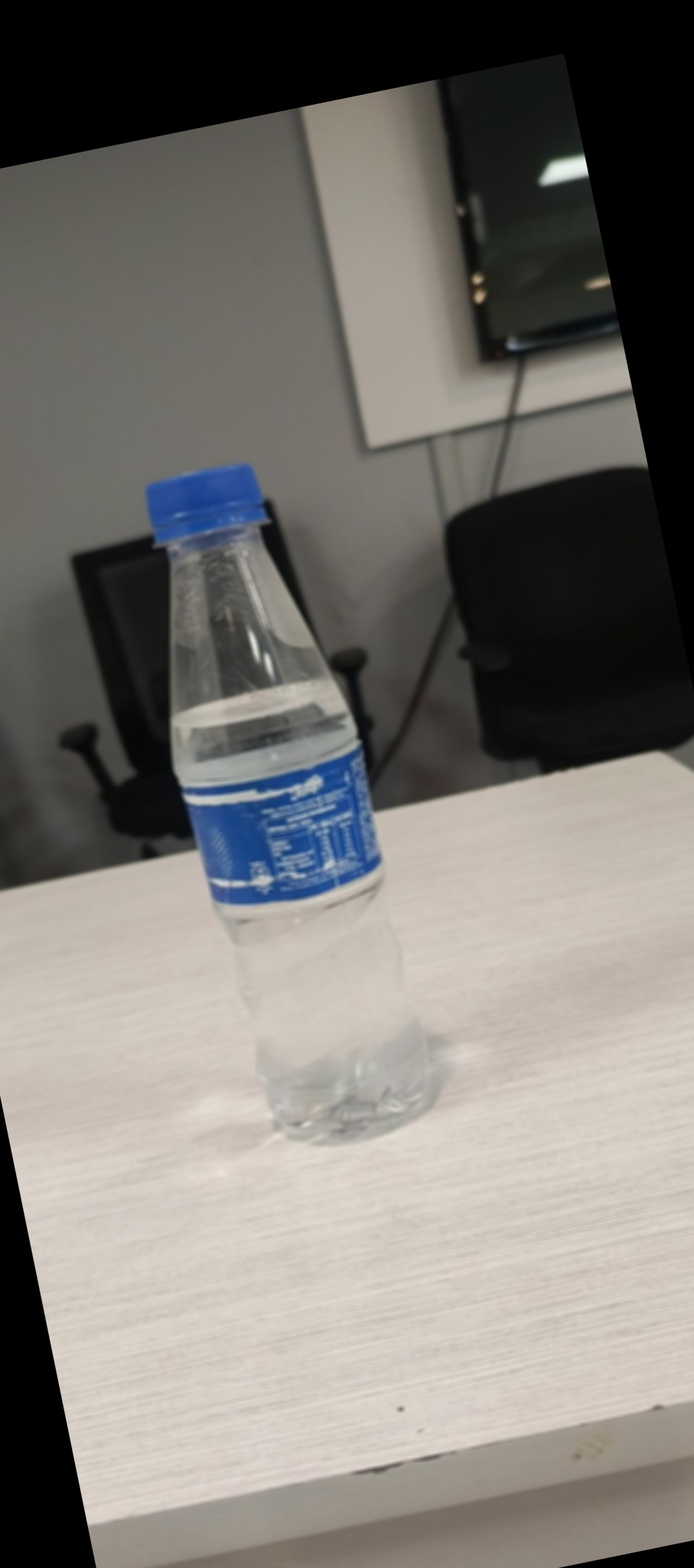Pepsi Bottle: (97, 418, 502, 1187), (91, 420, 468, 1174)
